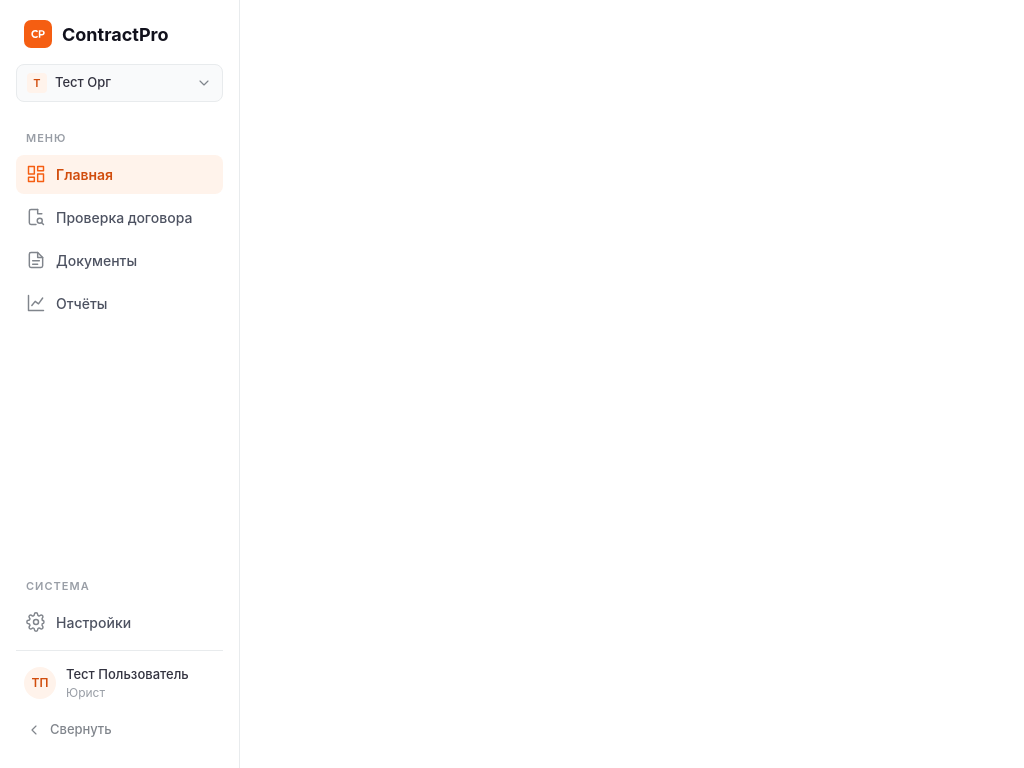
<SidebarNavigation> — профиль пользователя › popover профиля показывает имя/email/роль/организацию
Click the button with test id "sidebar-user-trigger" at [120, 683], box [16, 658, 223, 708]
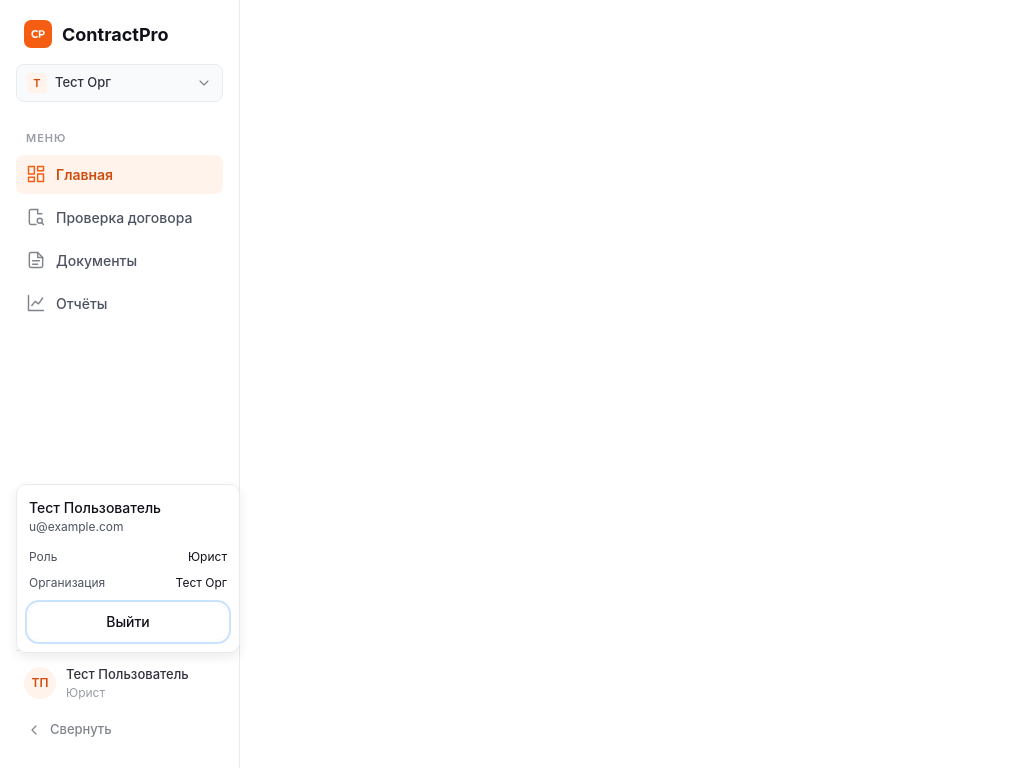
Check: the dialog with test id "sidebar-user-content" shows "Тест Пользователь", box [29, 499, 161, 516]
Check: the dialog with test id "sidebar-user-content" shows "u@example.com", box [29, 519, 124, 534]
Check: the dialog with test id "sidebar-user-content" shows "Юрист", box [188, 549, 227, 564]
